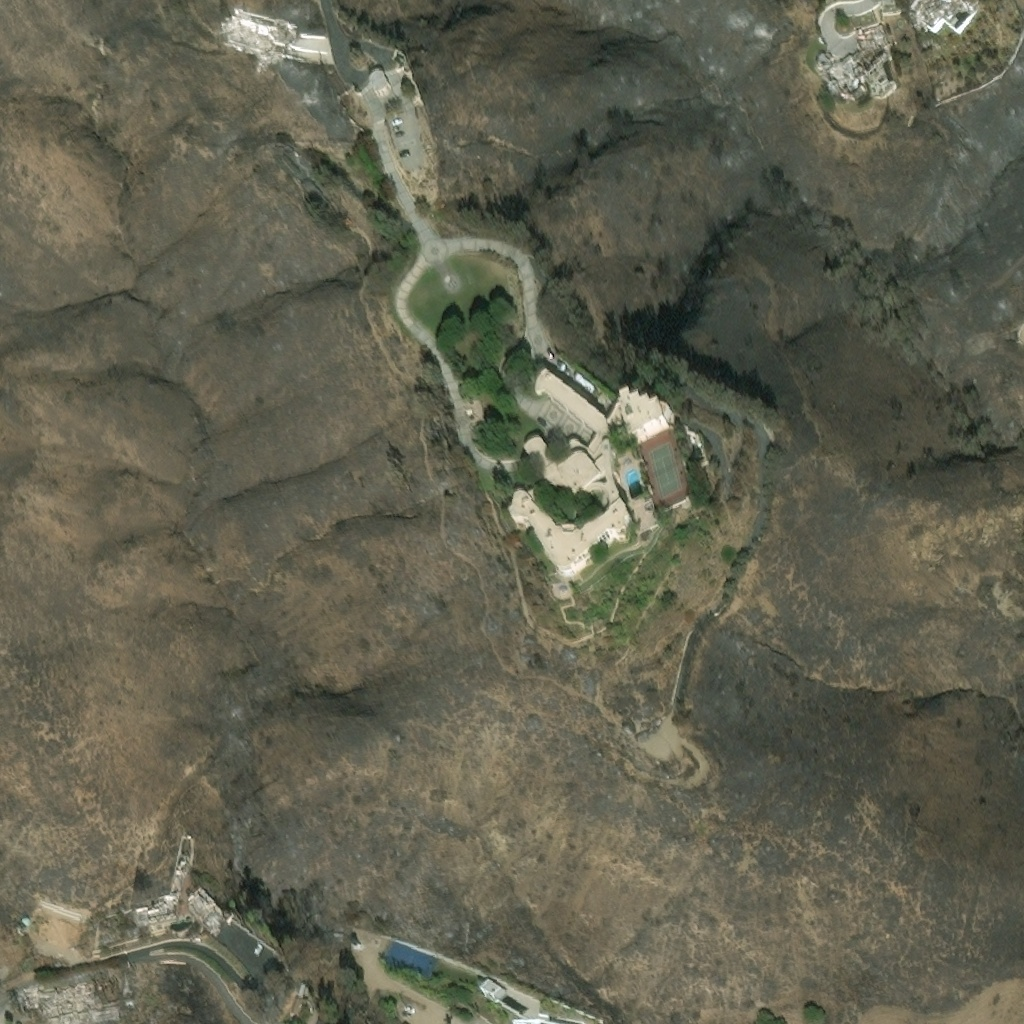0 no-damage: (511, 439, 631, 580), (537, 374, 678, 466), (547, 371, 623, 422), (511, 1010, 591, 1023), (289, 984, 309, 1018), (371, 75, 392, 99), (479, 978, 499, 994), (479, 986, 496, 1001), (492, 985, 505, 1001)
2 major-damage: (131, 892, 191, 931)
3 destroyed: (21, 980, 118, 1022), (223, 10, 294, 57), (815, 51, 868, 100), (850, 22, 887, 74), (907, 0, 970, 30), (300, 179, 330, 210), (851, 83, 865, 103), (815, 63, 829, 83), (175, 853, 189, 873), (304, 92, 314, 100), (19, 913, 27, 920)
